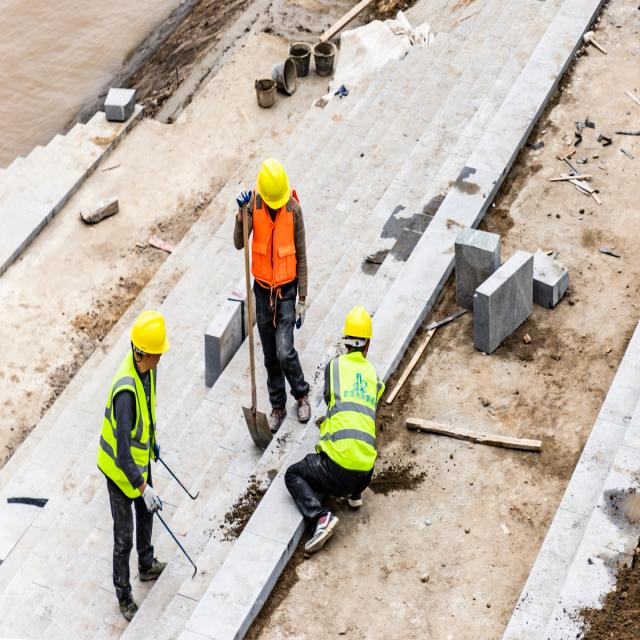worker: (85, 294, 204, 613), (305, 297, 387, 526), (244, 171, 313, 430)
